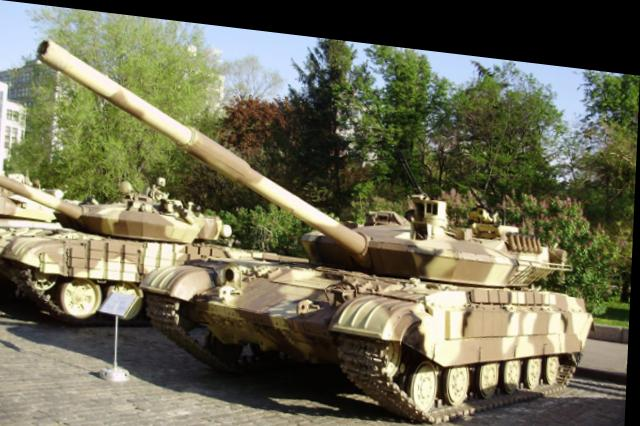tank: (215, 191, 593, 417), (37, 181, 242, 325)
